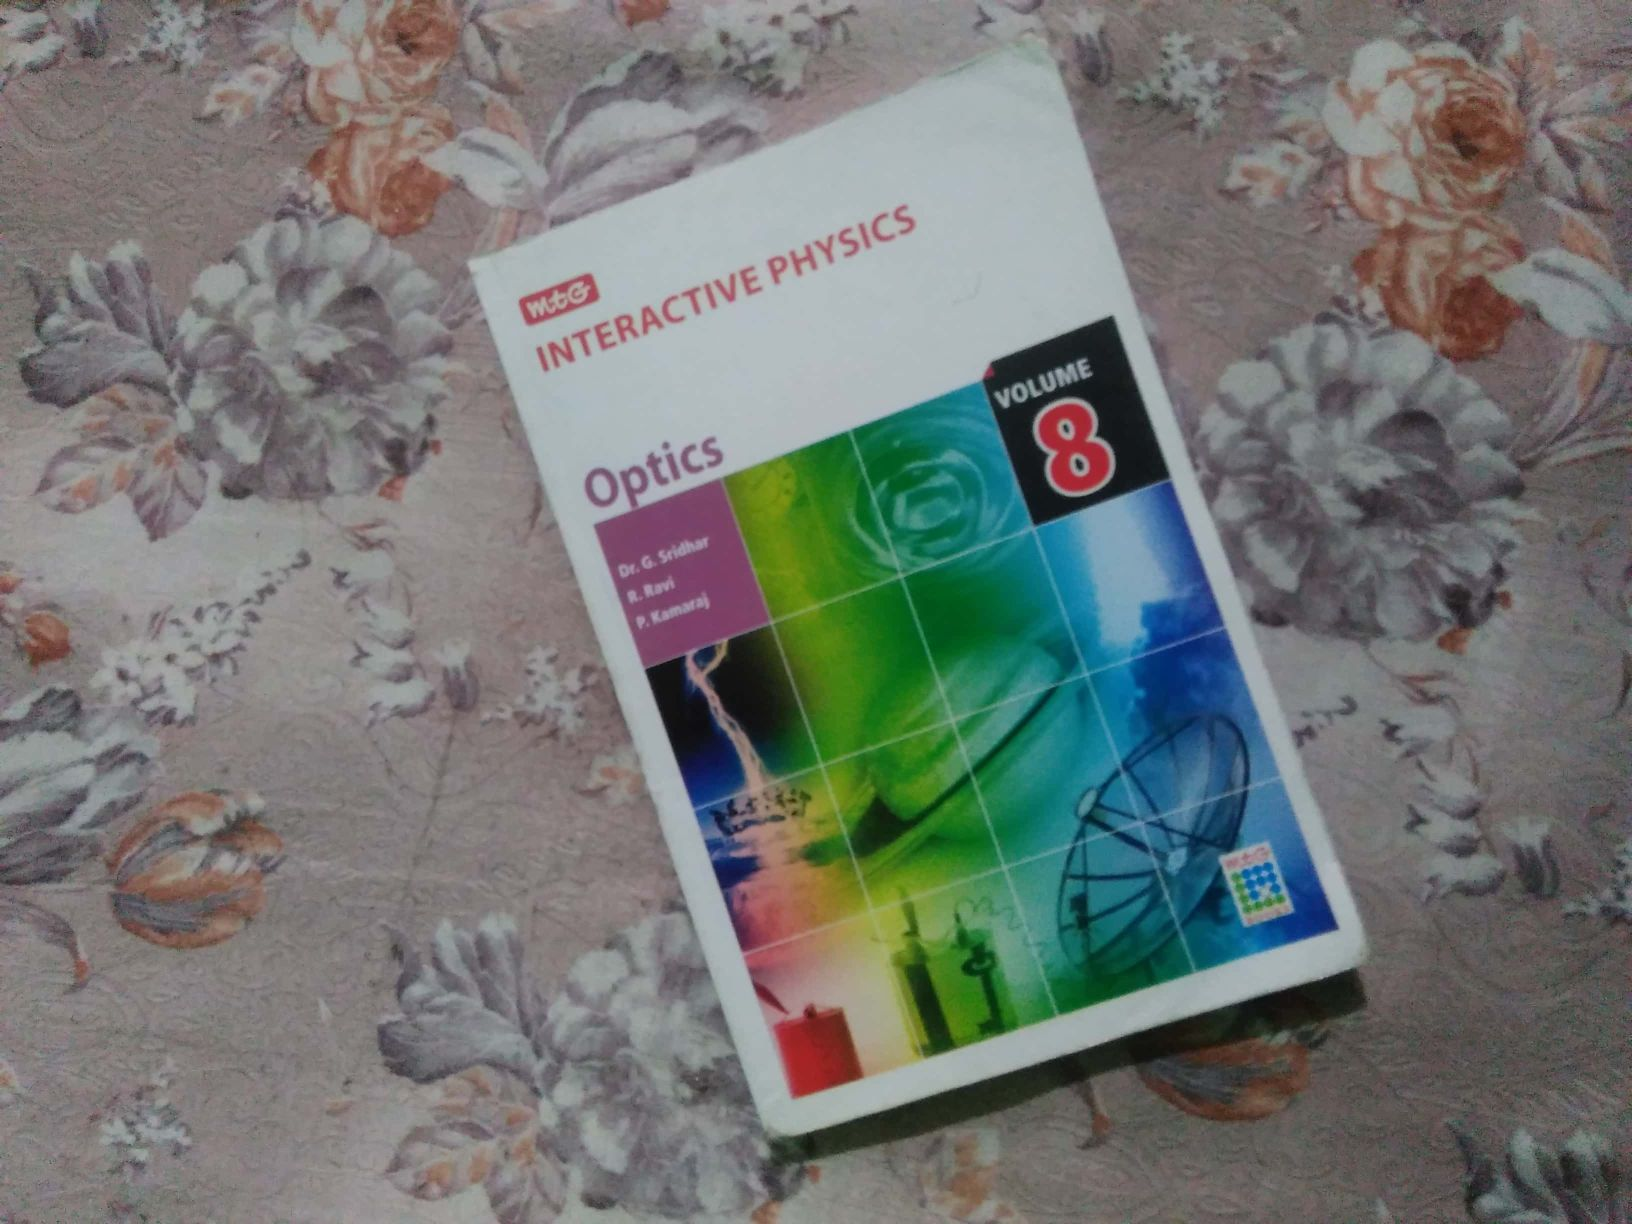optics: (466, 94, 1380, 1120)
